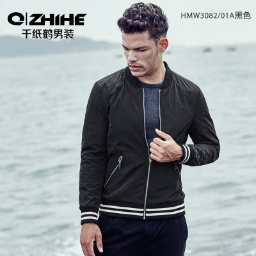face: (119, 2, 171, 79)
